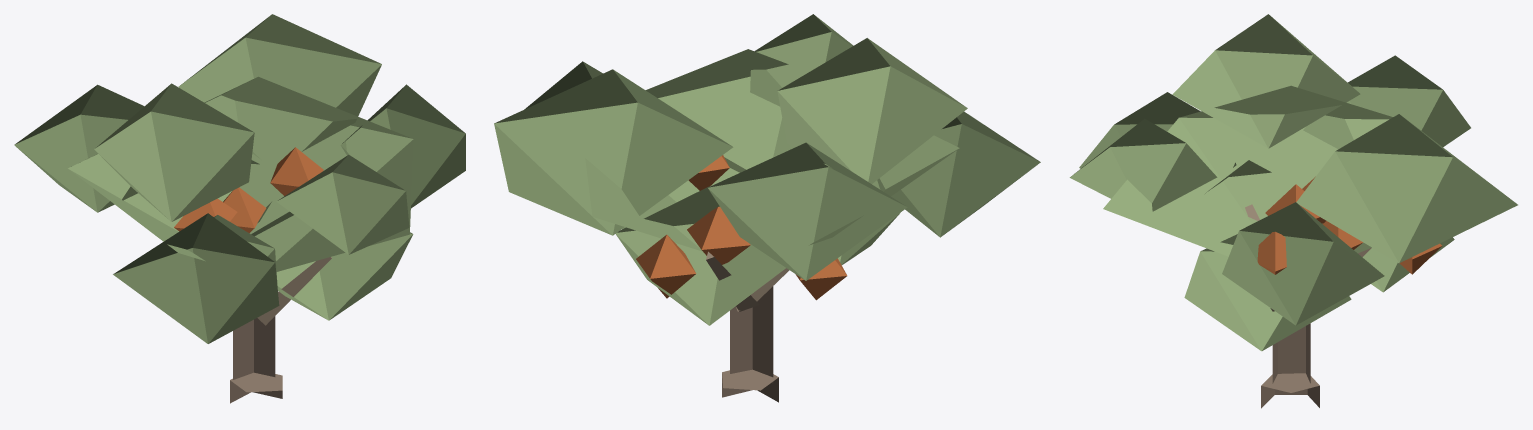
Rendered from tree.sub.citrus__summer.glb.
3 renders of one model, left to right at view 1: azimuth 30°, elevation 25°; view 2: azimuth 150°, elevation 25°; view 3: azimuth 270°, elevation 25°, orthographic. The views are drawn at different scales.
Parts seen in each view (by area): view 1: tree.sub.citrus__summer; view 2: tree.sub.citrus__summer; view 3: tree.sub.citrus__summer.
Boxes of the visible parts, <box> form: tree.sub.citrus__summer: <box>14,14,465,403</box>; tree.sub.citrus__summer: <box>494,14,1040,402</box>; tree.sub.citrus__summer: <box>1069,14,1517,408</box>.
Size of the model in its own units: 5.84 by 5.06 by 5.98.
